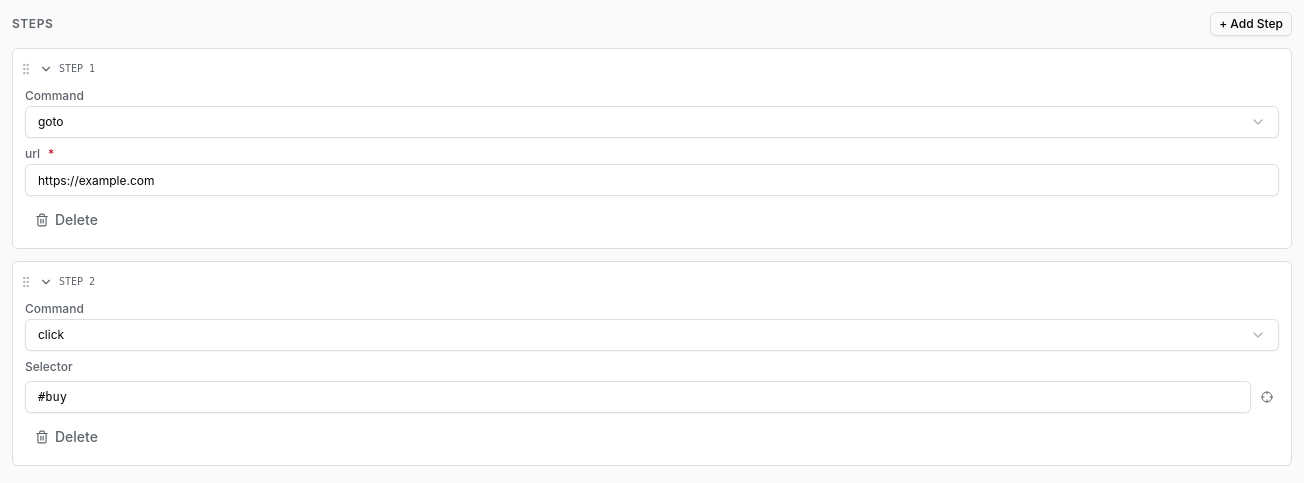
it: StepBuilder › removing steps › hides the delete action once one step remains
Step 1. Click the button "Delete" below "url" → (66, 220), box [25,204,108,236]
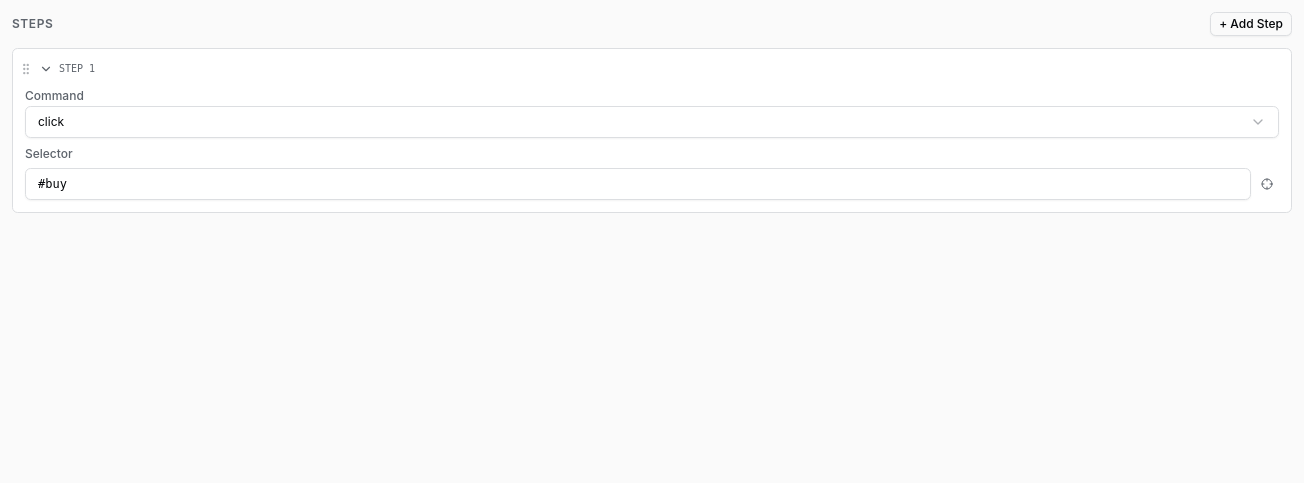
Expected: no buttons "Delete" are shown
